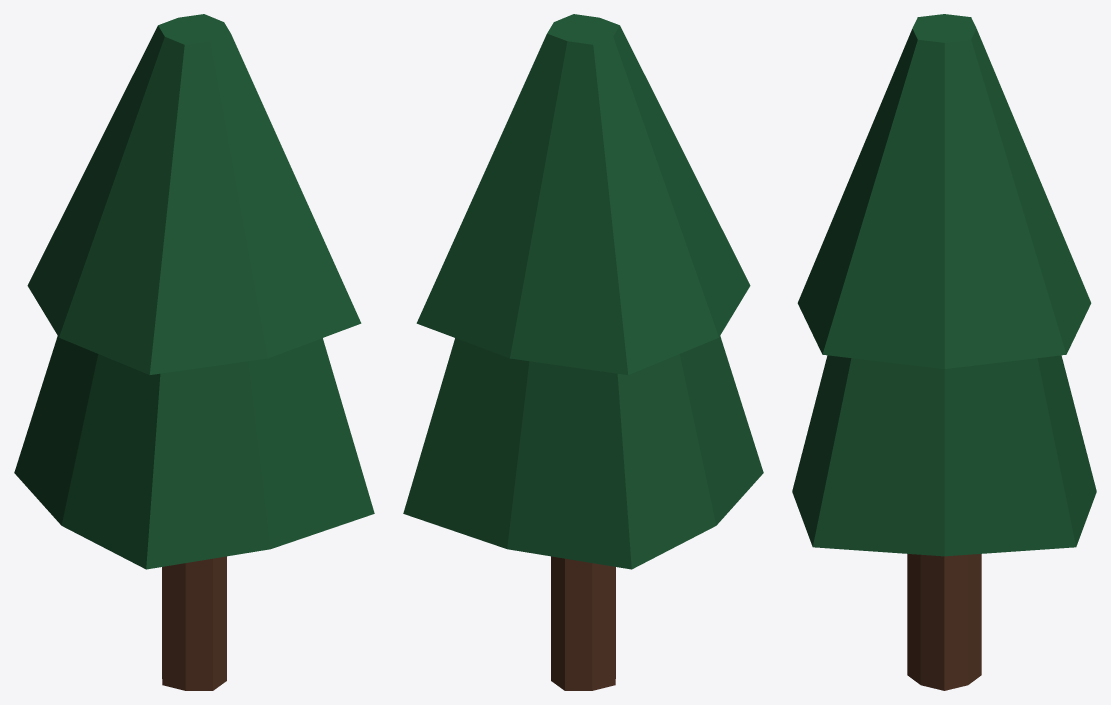
Rendered from tree_1.fbx.
The picture shows the model from 3 angles, left to right: view 1: azimuth 30°, elevation 25°; view 2: azimuth 150°, elevation 25°; view 3: azimuth 270°, elevation 25°; orthographic projection.
Parts seen in each view (by area): view 1: tree_1; view 2: tree_1; view 3: tree_1.
Boxes of the visible parts, box(x1,y1,x2,y2) form: tree_1: box(14, 14, 374, 690); tree_1: box(403, 14, 763, 690); tree_1: box(792, 14, 1096, 690).
Size of the model in its own units: 61.69 by 141 by 60.17.
